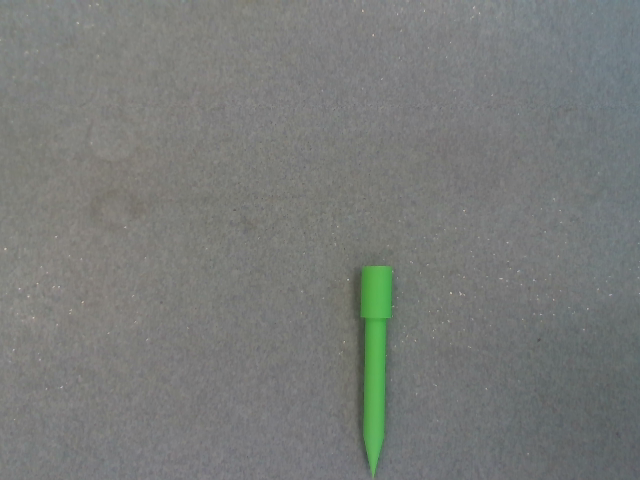Probe: (354, 252, 398, 480)
